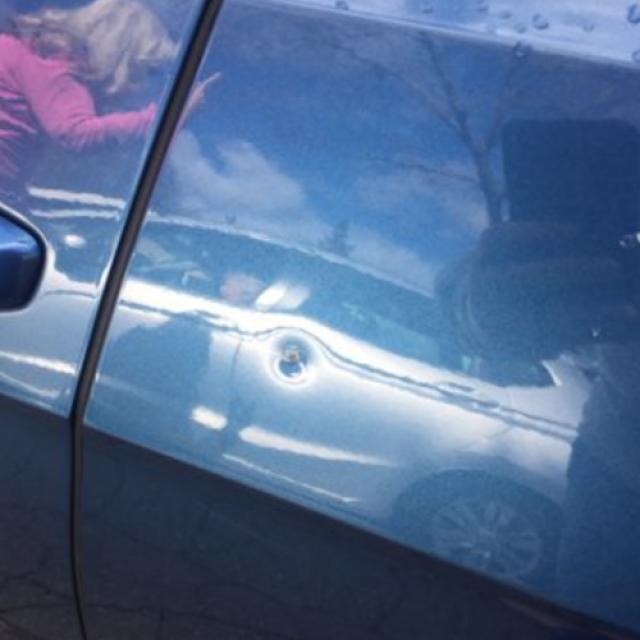dents: (265, 322, 331, 398)
